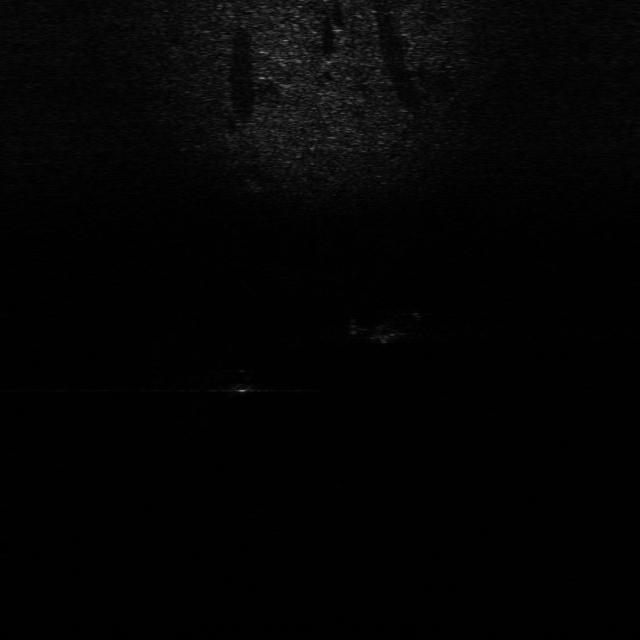ball: (218, 366, 262, 398)
human body: (346, 308, 430, 351)
